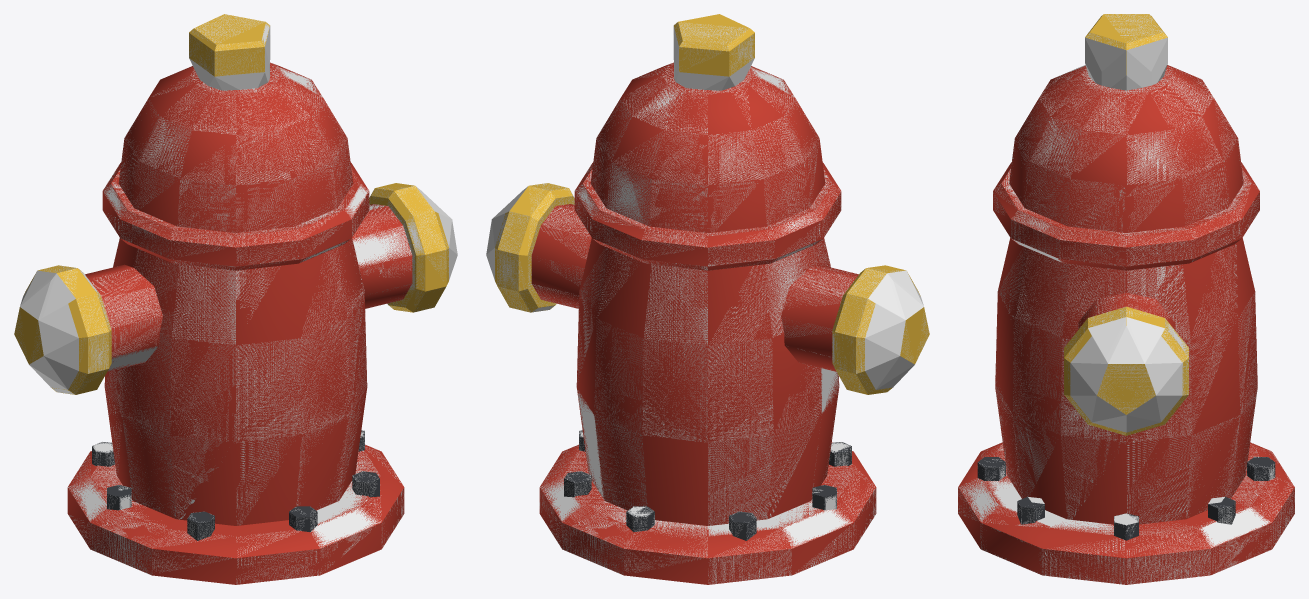
The model's file is fire_hydrant.glb.
3 renders of one model, left to right at view 1: azimuth 30°, elevation 25°; view 2: azimuth 150°, elevation 25°; view 3: azimuth 270°, elevation 25°, orthographic.
Visible parts, largest first — view 1: body, dome, flange, COL_fire_hydrant_11, collar, COL_fire_hydrant_15, COL_fire_hydrant_00, COL_fire_hydrant_13, outlet_cap_left, outlet_cap_right, outlet_left, top_nut (+9 smaller); view 2: body, dome, COL_fire_hydrant_11, flange, collar, COL_fire_hydrant_15, COL_fire_hydrant_00, COL_fire_hydrant_13, outlet_cap_left, outlet_cap_right, outlet_left, outlet_right (+9 smaller); view 3: body, dome, flange, COL_fire_hydrant_11, collar, COL_fire_hydrant_15, COL_fire_hydrant_12, COL_fire_hydrant_00, outlet_cap_right, COL_fire_hydrant_16, COL_fire_hydrant_14, top_nut (+5 smaller).
Boxes of the visible parts, <box> form: body: <box>104,238,367,525</box>; dome: <box>118,62,353,232</box>; flange: <box>67,444,404,584</box>; COL_fire_hydrant_11: <box>105,240,366,524</box>; collar: <box>102,162,369,270</box>; COL_fire_hydrant_15: <box>119,66,352,232</box>; COL_fire_hydrant_00: <box>68,442,403,584</box>; COL_fire_hydrant_13: <box>15,266,111,394</box>; outlet_cap_left: <box>14,265,111,394</box>; outlet_cap_right: <box>369,183,448,312</box>; outlet_left: <box>85,264,162,371</box>; top_nut: <box>189,14,269,76</box>; body: <box>576,238,839,525</box>; dome: <box>590,62,825,232</box>; COL_fire_hydrant_11: <box>576,240,839,525</box>; flange: <box>539,442,876,584</box>; collar: <box>574,162,841,270</box>; COL_fire_hydrant_15: <box>591,64,819,232</box>; COL_fire_hydrant_00: <box>539,445,875,583</box>; COL_fire_hydrant_13: <box>832,268,928,393</box>; outlet_cap_left: <box>832,265,929,394</box>; outlet_cap_right: <box>495,183,574,312</box>; outlet_left: <box>781,264,858,371</box>; outlet_right: <box>531,204,591,308</box>; body: <box>995,238,1257,524</box>; dome: <box>1009,65,1243,232</box>; flange: <box>958,442,1294,584</box>; COL_fire_hydrant_11: <box>995,244,1257,523</box>; collar: <box>993,162,1259,270</box>; COL_fire_hydrant_15: <box>1009,65,1243,231</box>; COL_fire_hydrant_12: <box>1065,307,1188,435</box>; COL_fire_hydrant_00: <box>958,443,1294,584</box>; outlet_cap_right: <box>1064,306,1188,435</box>; COL_fire_hydrant_16: <box>1085,14,1167,90</box>; COL_fire_hydrant_14: <box>993,164,1259,270</box>; top_nut: <box>1085,14,1167,74</box>.
Bounding box in the file's own units: 0.568 × 0.6355 × 0.4.
